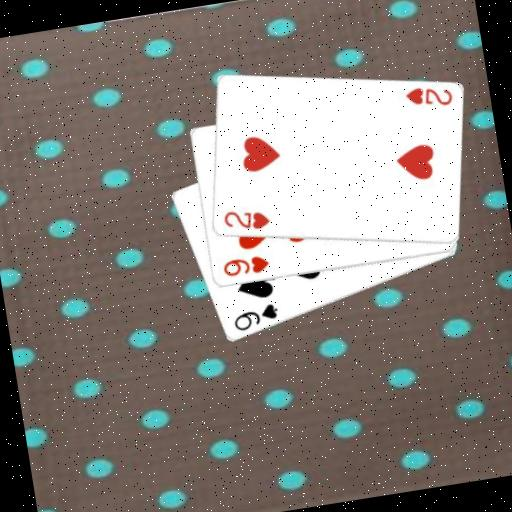2H: (400, 80, 455, 114), (218, 202, 272, 236)
9H: (218, 252, 271, 281)
9S: (228, 299, 282, 334)
